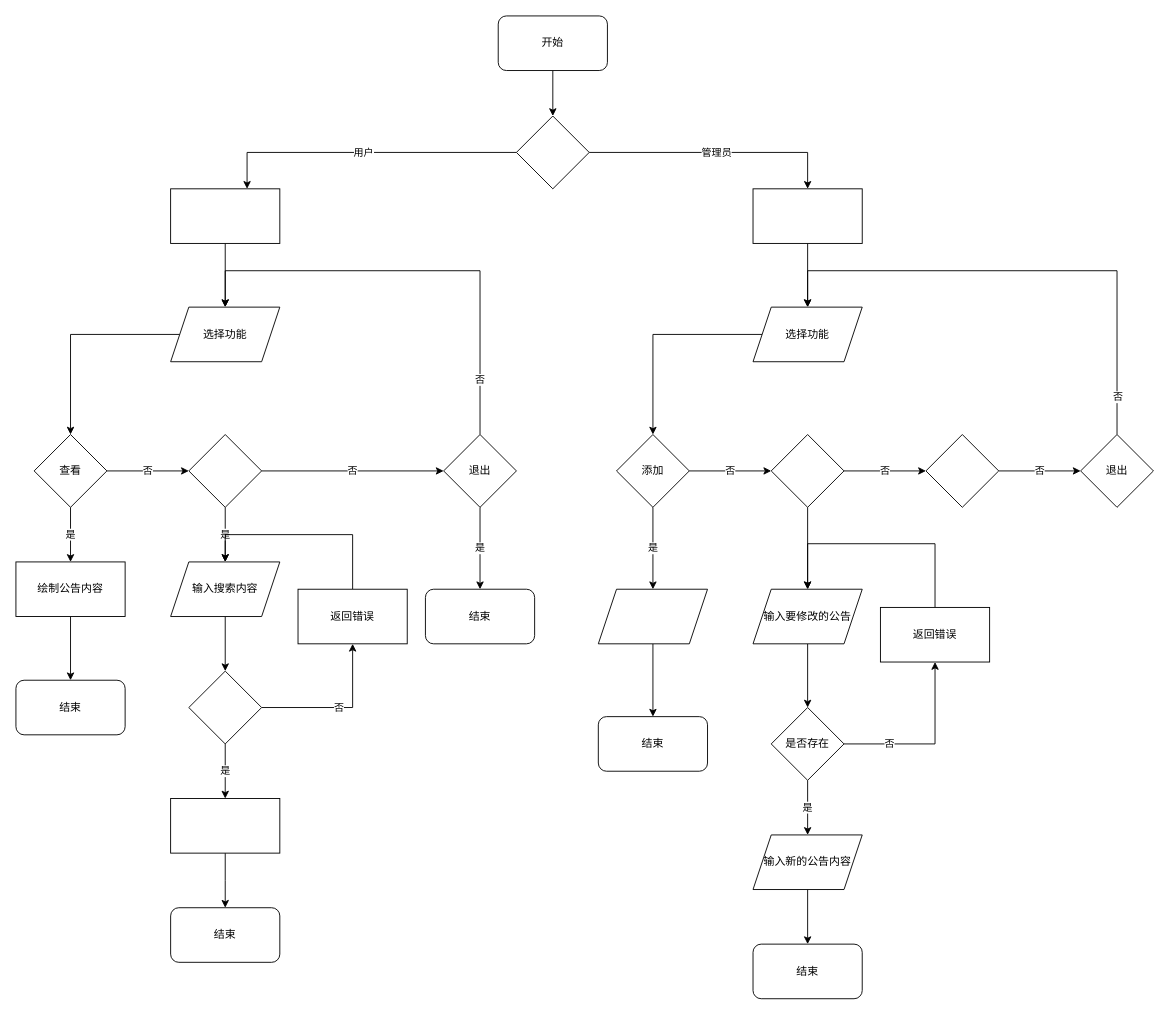
Image size: 1169x1015. Some labels were removed from this diagram. The centre of each missing label's shape, as x and y in pixels:
修改: the point at 807,470
删除: the point at 962,470
判断用户类型: the point at 552,152
搜索: the point at 225,470
是否有相关信息: the point at 225,707
绘制用户界面: the point at 225,215
绘制相关公告: the point at 225,825
绘制管理员界面: the point at 807,215
编写公告: the point at 652,616
